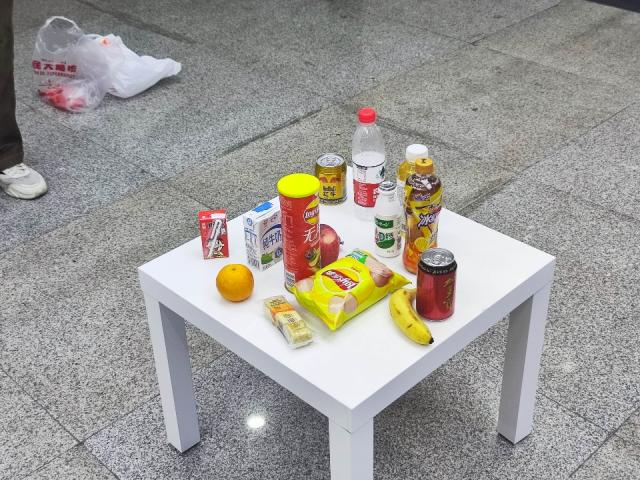Canned_drinks: (416, 245, 458, 323), (314, 149, 345, 201)
cylinder: (274, 177, 328, 288)
drink_box: (198, 209, 234, 257)
